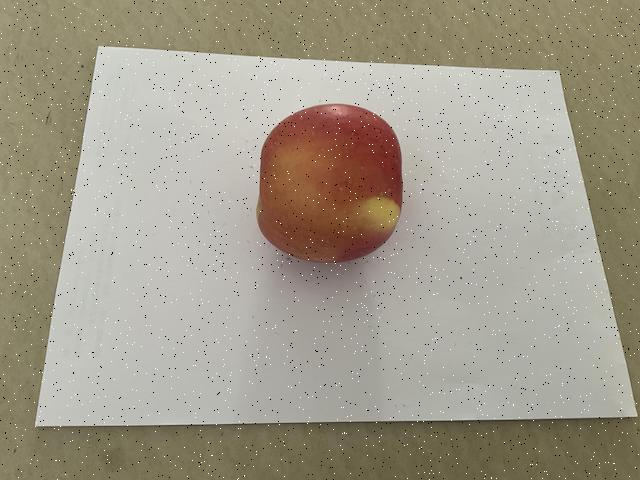apple: (250, 96, 408, 274)
